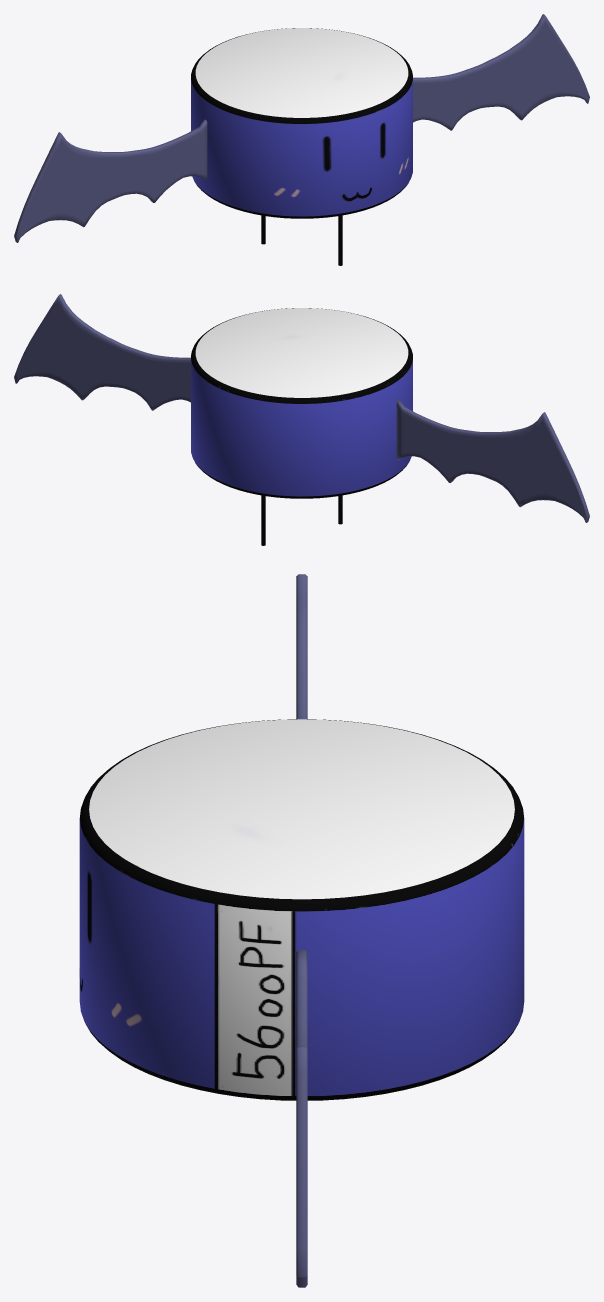
File: Denkon-kun.glb
The picture shows the model from 3 angles, top to bottom: view 1: azimuth 30°, elevation 25°; view 2: azimuth 150°, elevation 25°; view 3: azimuth 270°, elevation 25°; orthographic projection. The views are drawn at different scales.
Visible parts, largest first — view 1: 円柱, 立方体; view 2: 円柱, 立方体; view 3: 円柱, 立方体.
Part boxes in pixels (box(x1,y1,x2,y2)): 円柱: box(191, 28, 412, 218); 立方体: box(14, 14, 589, 242); 円柱: box(191, 308, 412, 498); 立方体: box(14, 294, 589, 522); 円柱: box(79, 719, 524, 1100); 立方体: box(296, 574, 307, 1287).
Size of the model in its own units: 5.97 by 2 by 2.
4 materials, 1 textured.
